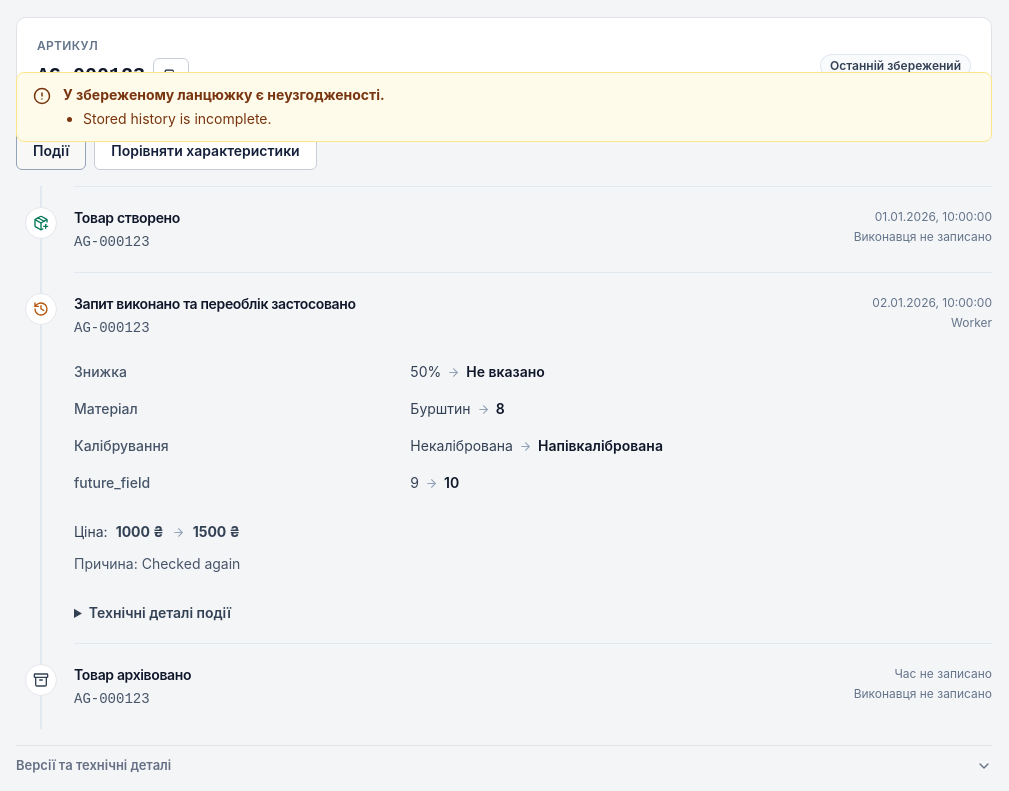
Test: product timeline › presents public article identity while retaining internal revision SKUs
(page scrolled)
Expected: the text "AG-000123" below "Артикул" is shown, [37,64,145,87]
Click the heading "Версії та технічні деталі" at (94, 765), box [16,757,992,774]
(page scrolled)
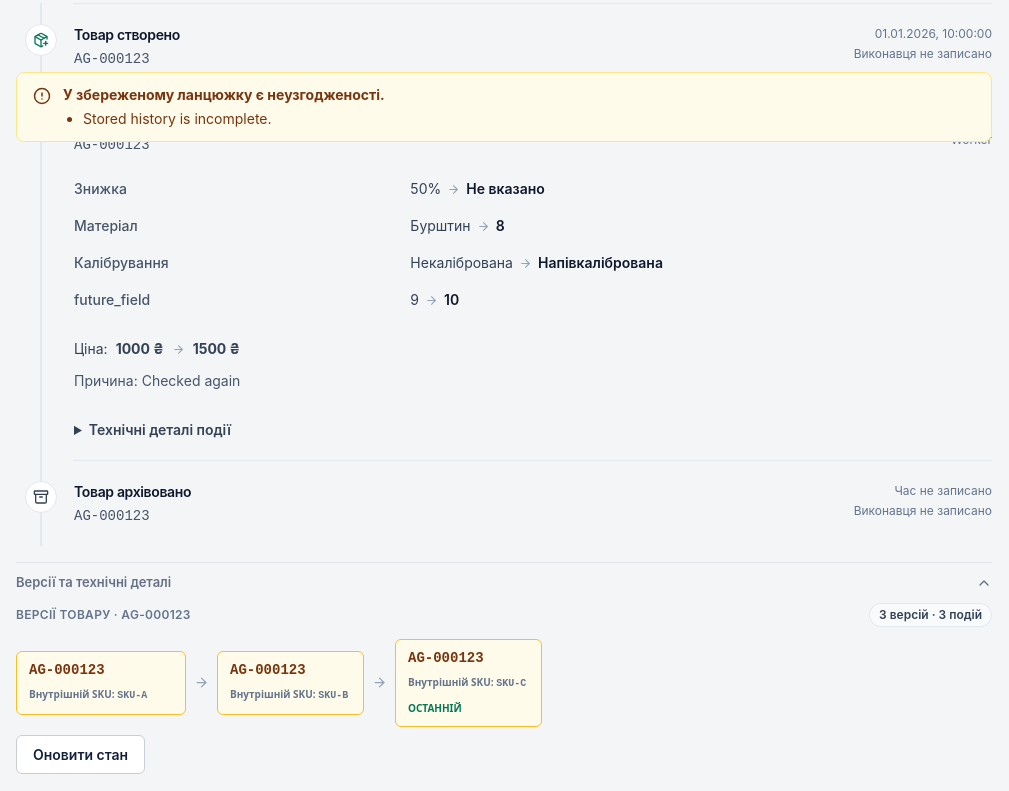
Result: the text "Внутрішній SKU: SKU-A" is shown at [29,686,147,700]
Result: the text "SKU-A" is shown at [117,690,147,700]
